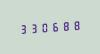eight: (62, 19, 72, 32), (73, 18, 83, 31)
six: (51, 19, 61, 33)
three: (17, 22, 27, 35), (28, 21, 38, 34)
zero: (40, 20, 50, 33)
